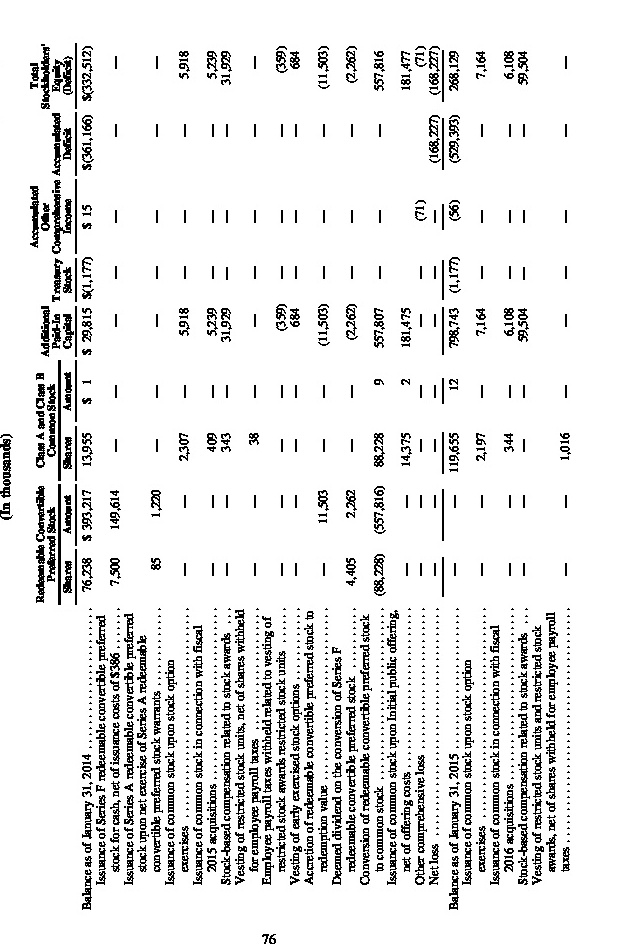table: (0, 0, 623, 944)
